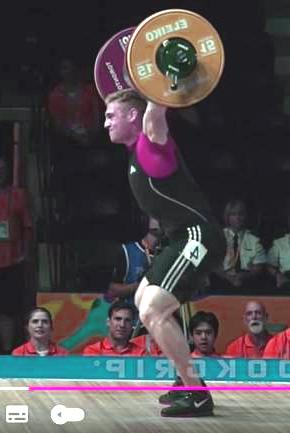Barbell: (172, 48, 192, 67)
